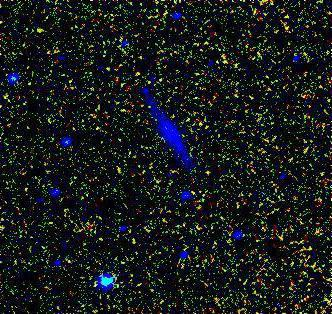star: (192, 158, 222, 188)
